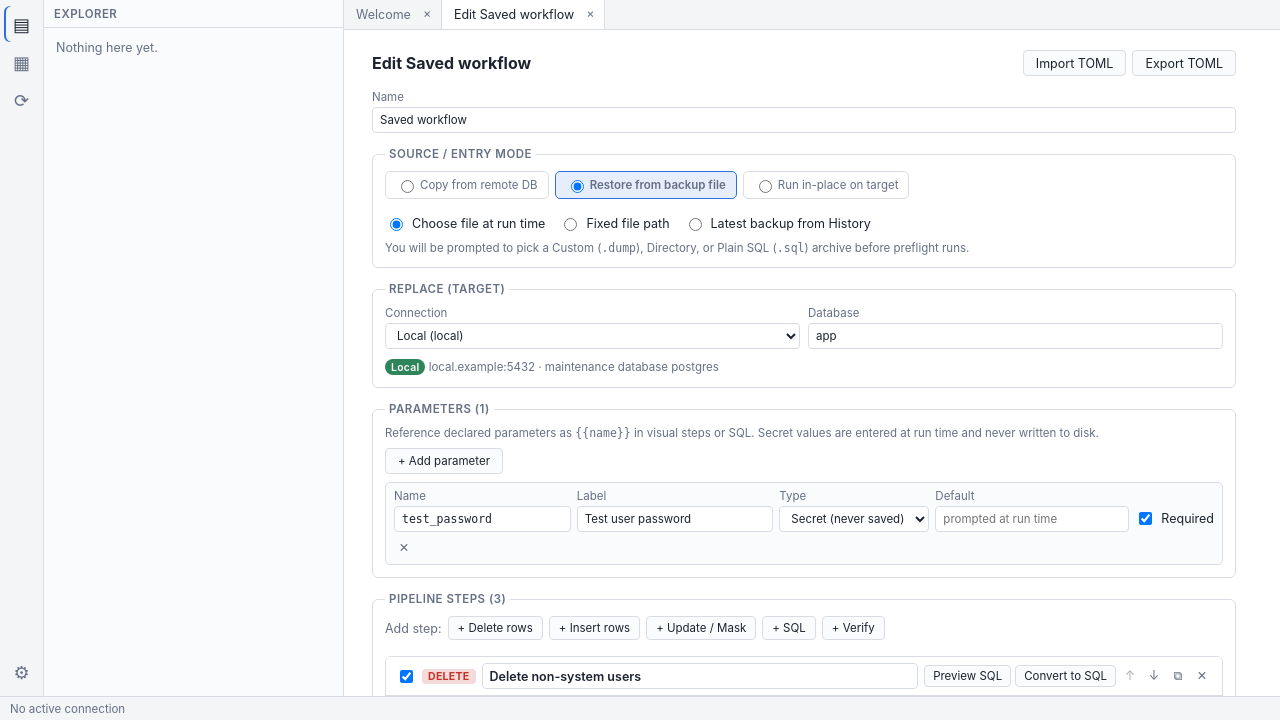
Test: workflow editor › imports and exports shareable workflow TOML
Click the button "Export TOML". click: (1184, 63)
box: [1132,50,1236,76]
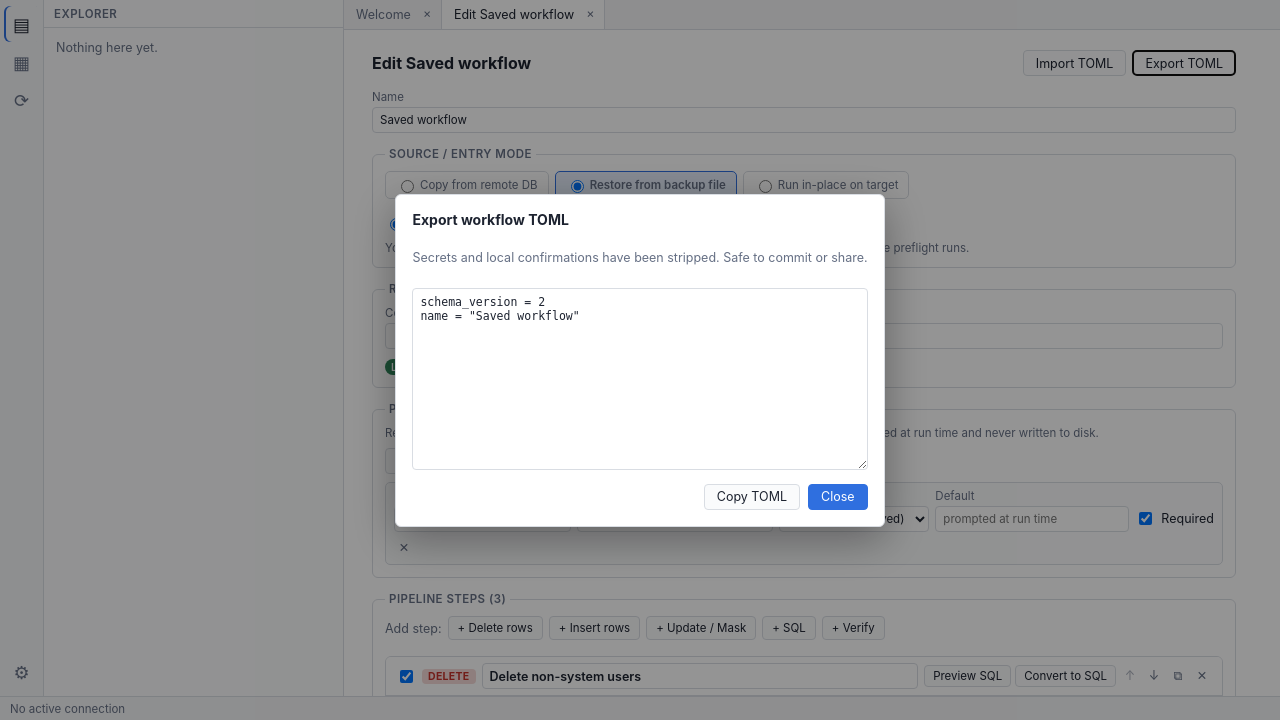
Click the button "Close". click: (838, 496)
box: [808,484,868,510]
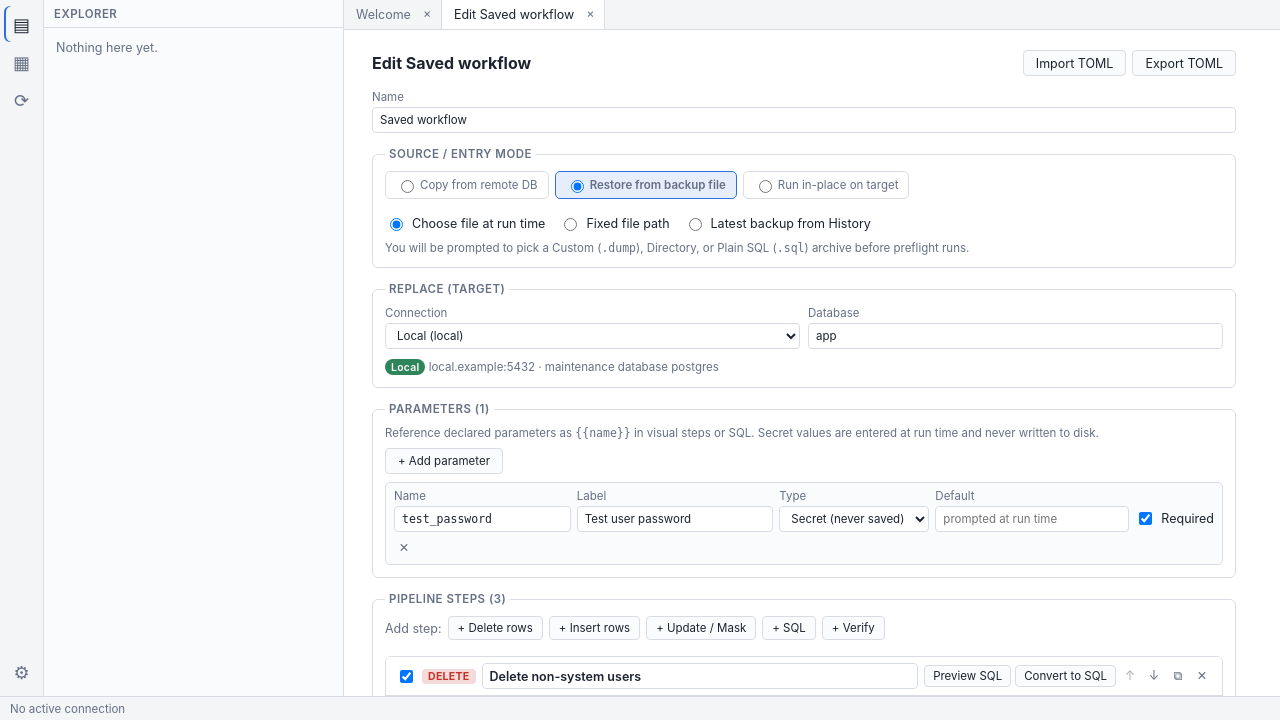
Click the button "Import TOML". click: (1075, 63)
box: [1023,50,1126,76]
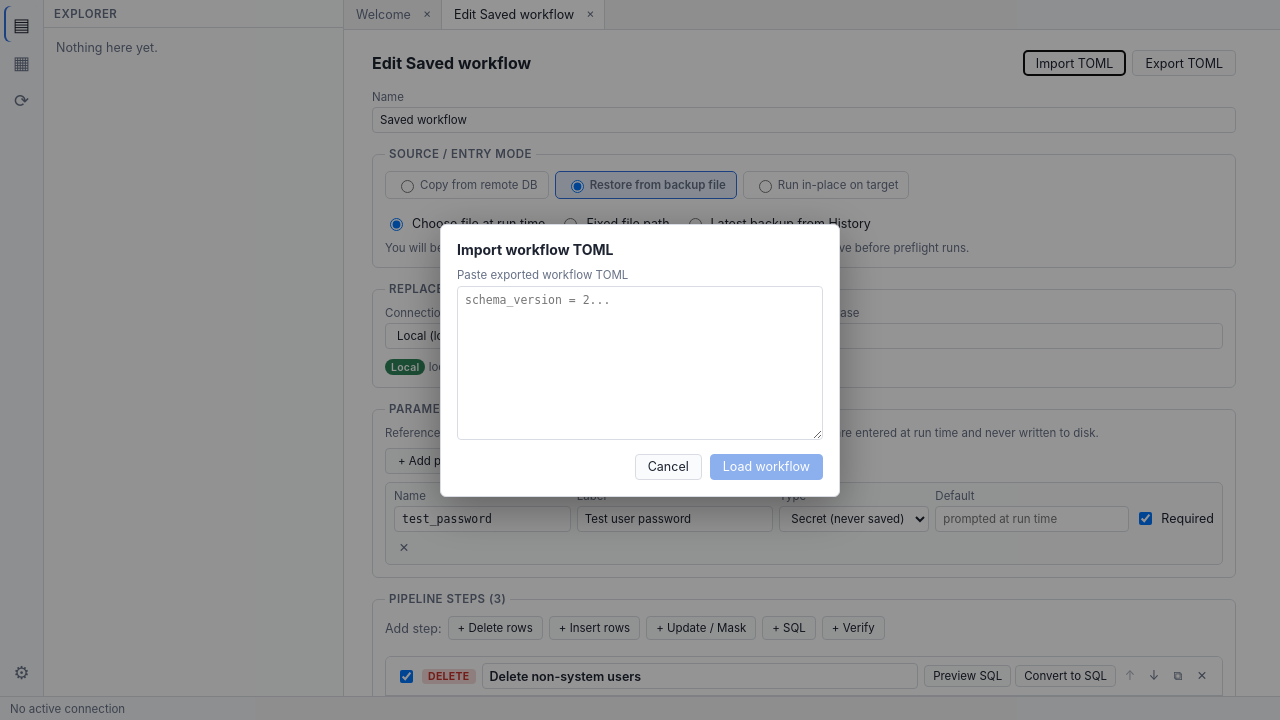
Type "schema_version = 2" into the text box named "Workflow TOML input". click: (640, 362)
box: [457,286,823,440]
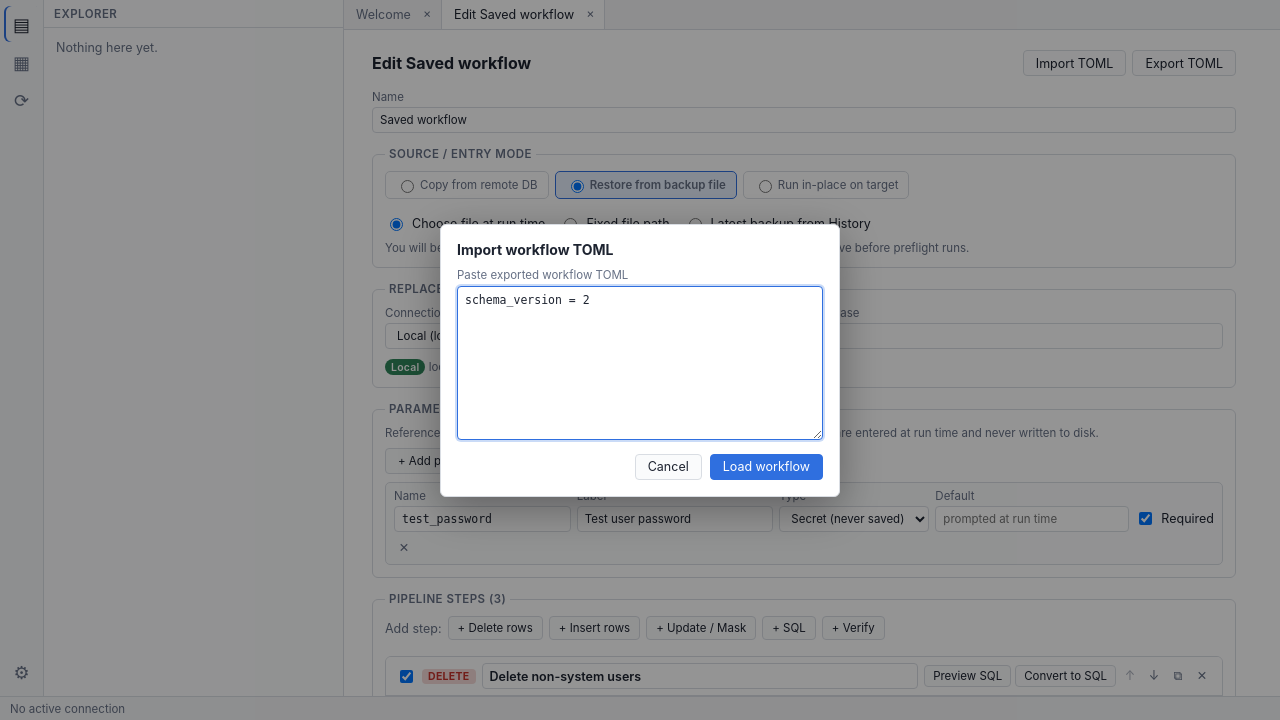
Click the button "Load workflow". click: (766, 466)
box: [710,454,823,480]
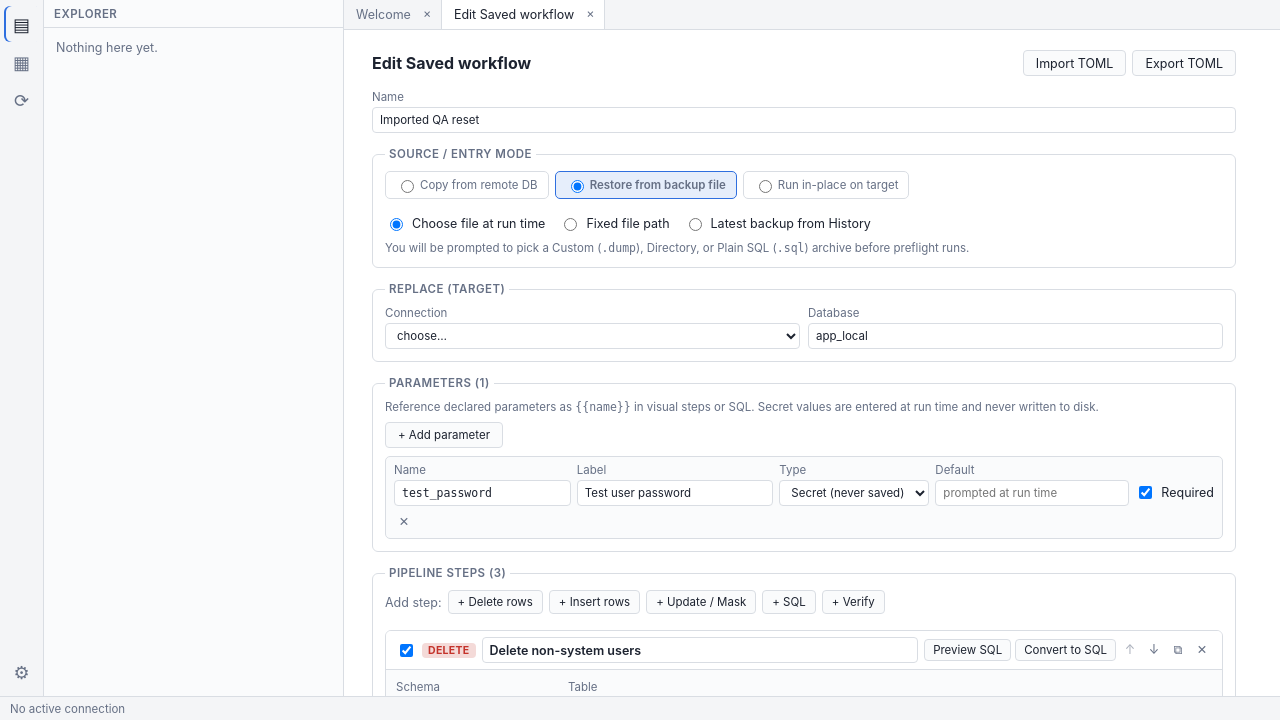
expect the 1st field showing "Imported QA reset" is shown: met, box [372,107,1236,133]
